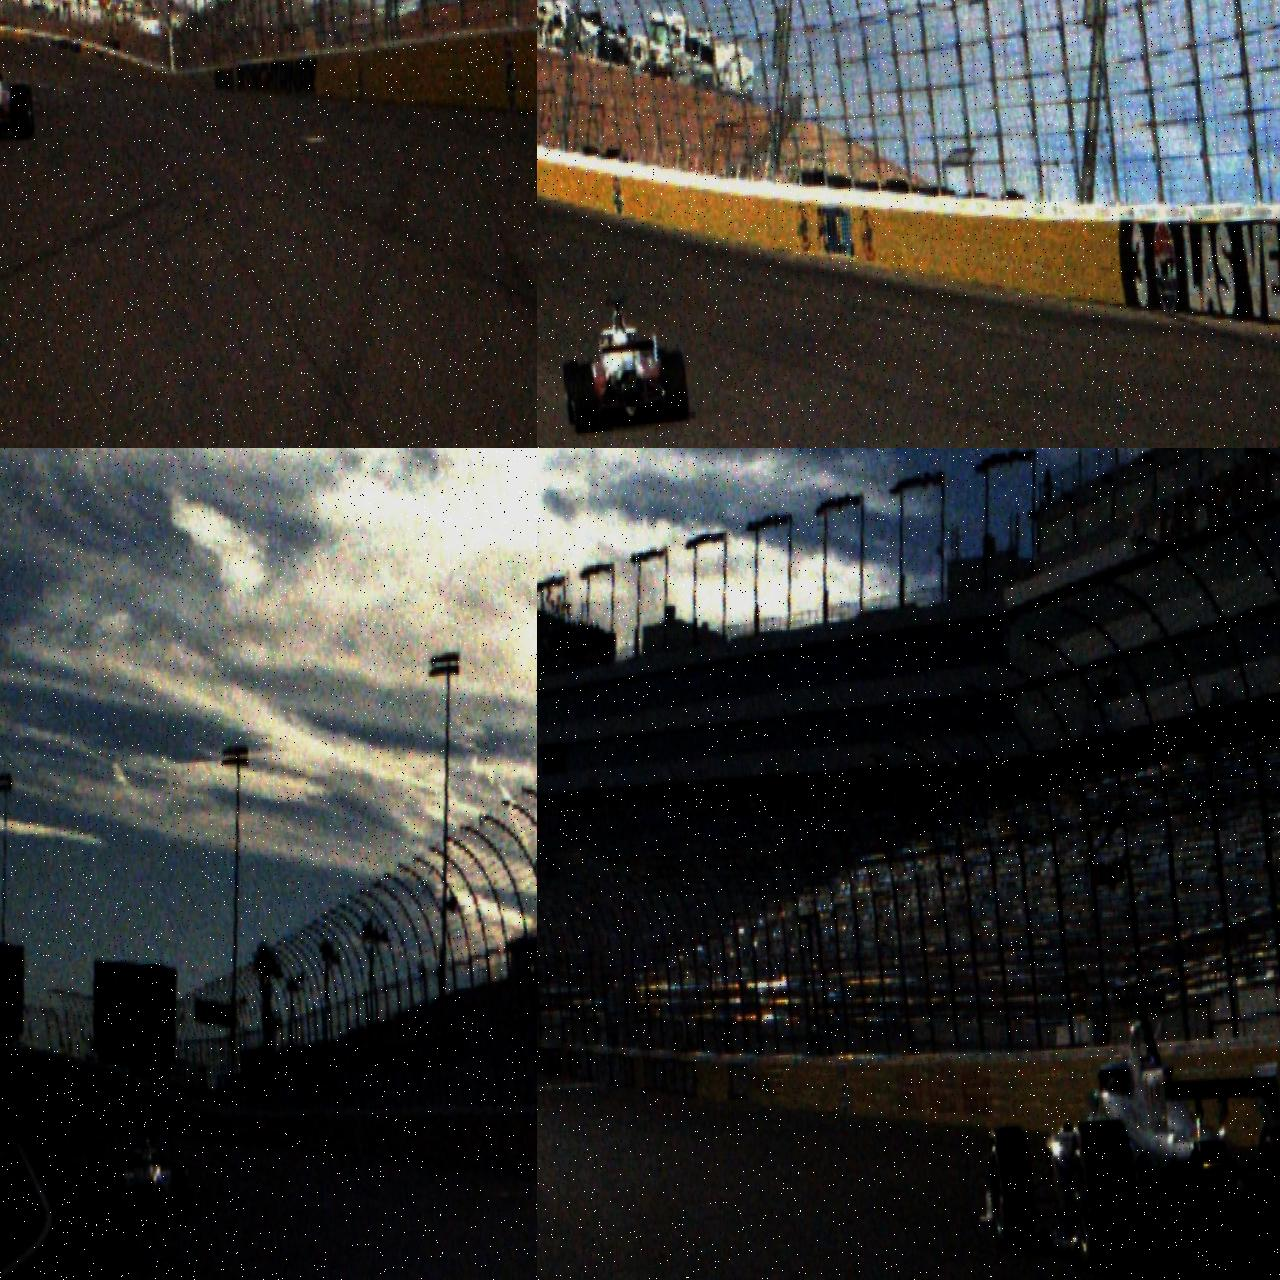AV: (964, 971, 1280, 1280), (559, 293, 690, 436), (105, 1125, 191, 1221), (0, 38, 36, 145)
Wheel: (1065, 1116, 1144, 1273), (987, 1123, 1040, 1257), (1255, 1105, 1280, 1269), (661, 352, 689, 423), (570, 366, 597, 435), (563, 361, 584, 425), (11, 82, 33, 141), (172, 1169, 191, 1217), (109, 1172, 127, 1221)
